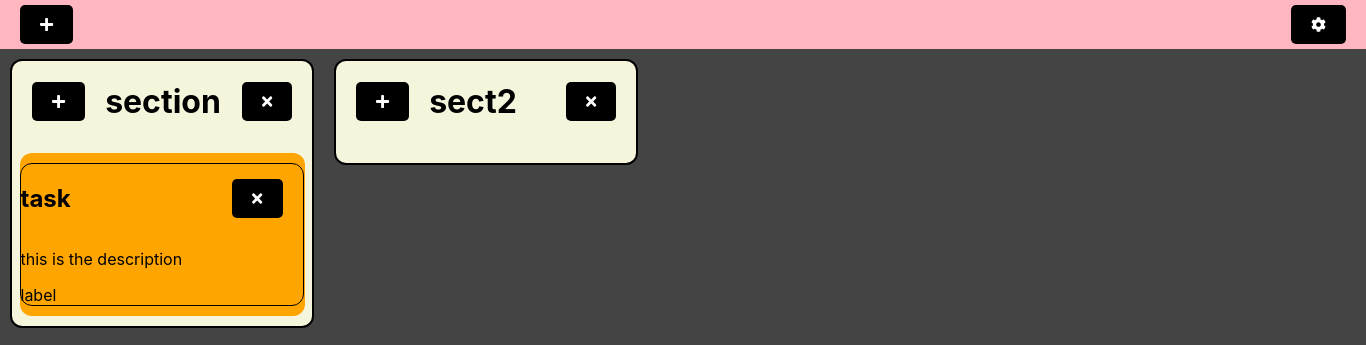
Test case: mocking fetch PUT requests › Edit title for section item
Double-click the heading "section" at (163, 102), box [105,82,222,121]
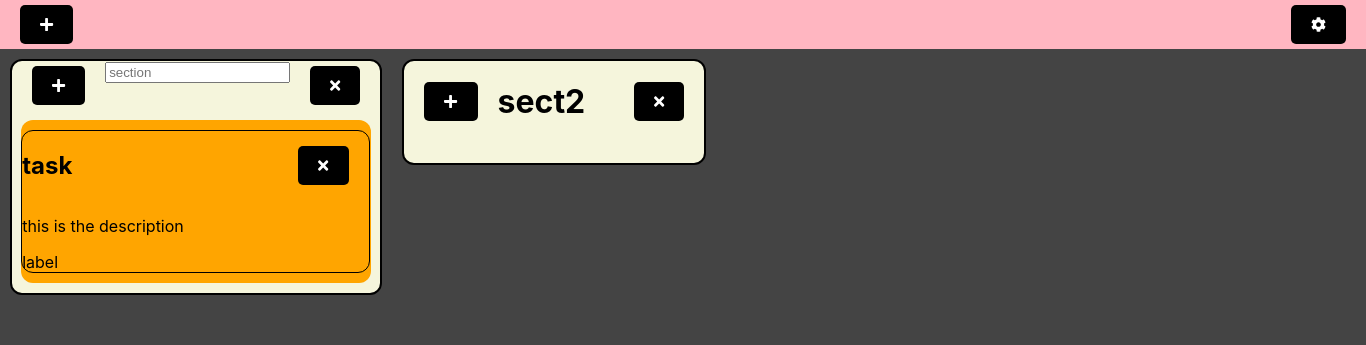
Type "Test" into the field at (198, 72), box [105,62,290,83]
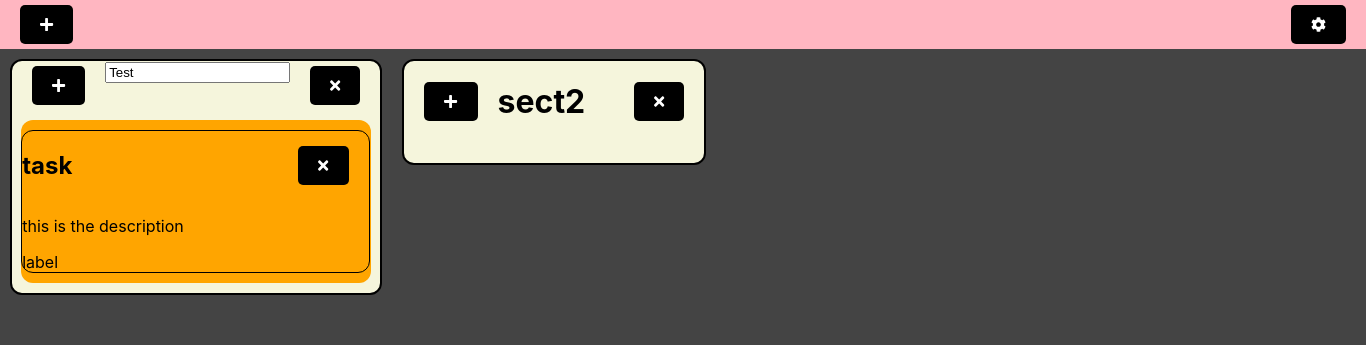
Leave the field, box [105,62,290,83]
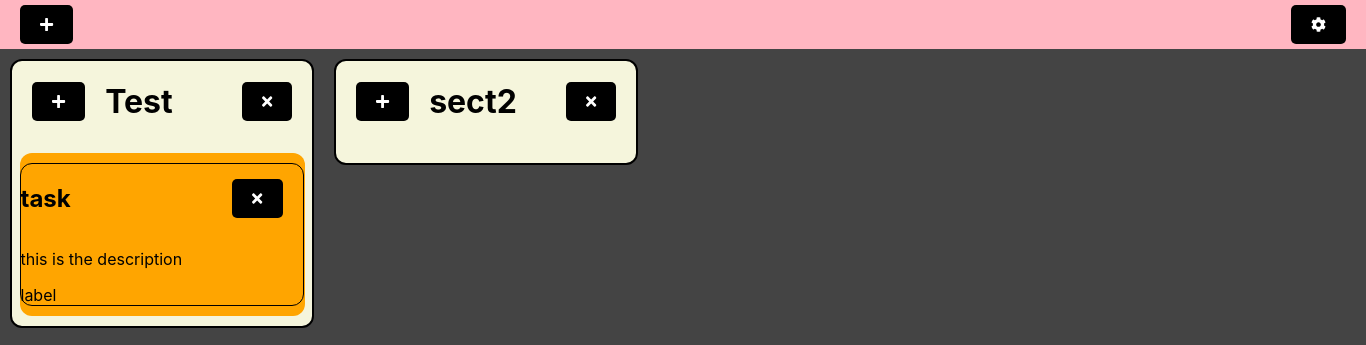
Expected: the heading "Test" is shown, [105,82,173,121]
